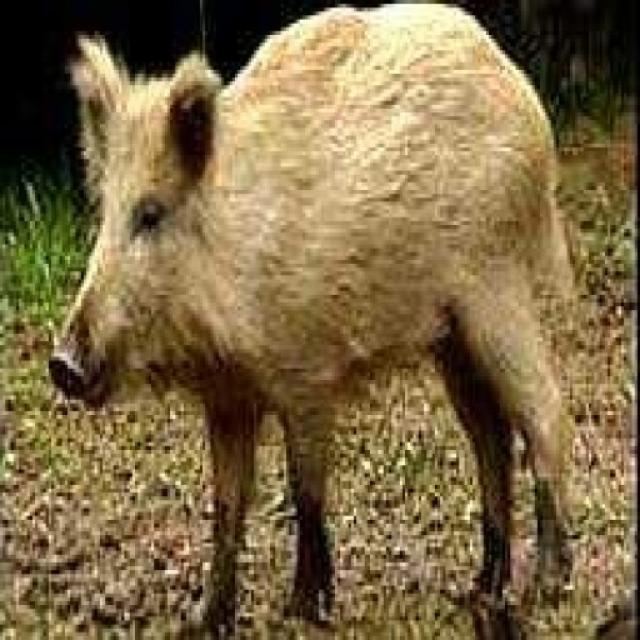pig: (50, 13, 615, 618)
